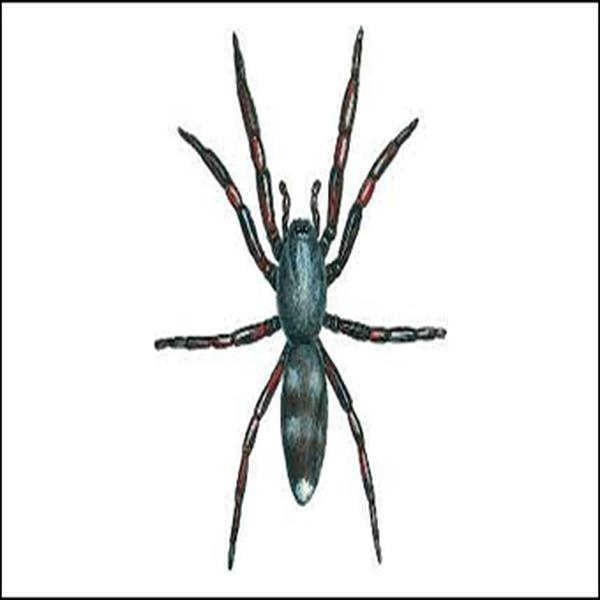White-Tailed Spider: (166, 27, 444, 562)
